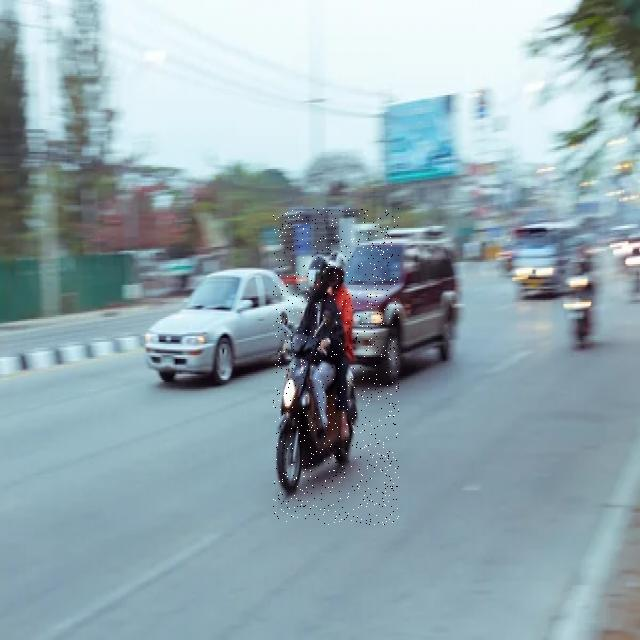With Helmet: (273, 208, 399, 525)
